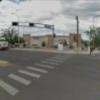crosswalks: (0, 54, 75, 94)
